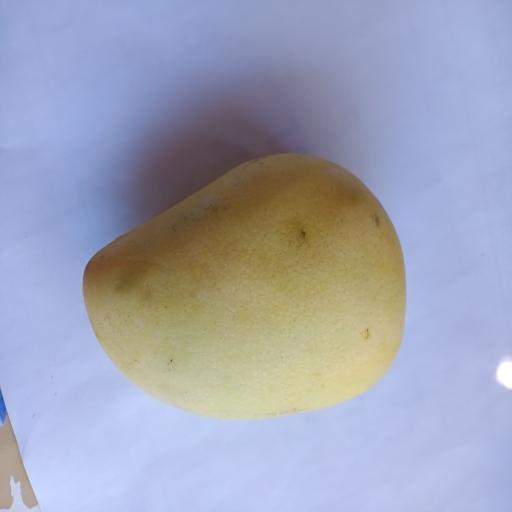mango-ripe: (60, 123, 442, 433)
